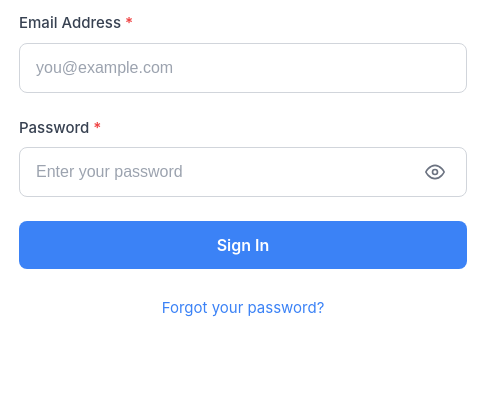
LoginForm › Email Validation › should show validation error on submit if email is invalid
In the field labelled "Email Address*": (243, 68) [19,42,467,92], type "invalid-email"
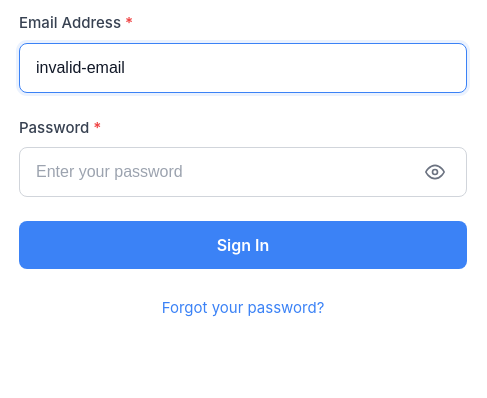
Click the button "Sign In": (243, 245) [19,221,467,269]
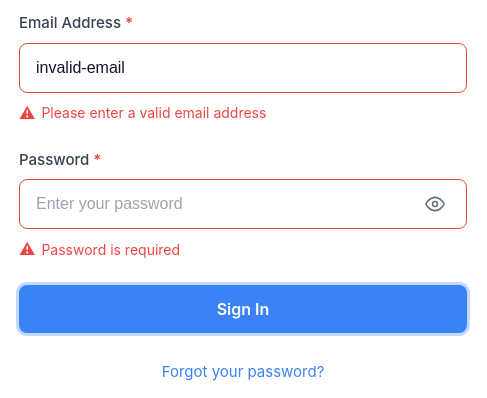
Check: the text "Please enter a valid email address" is shown, box [41,104,266,121]
